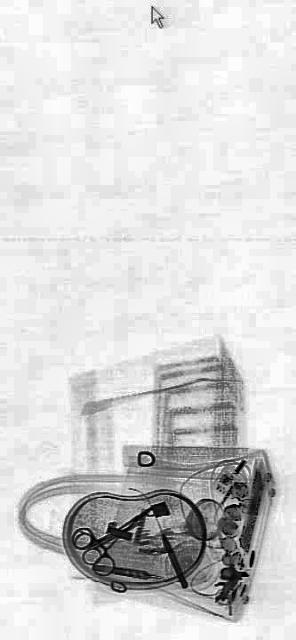Scissors: (70, 481, 159, 592), (72, 508, 124, 572)
